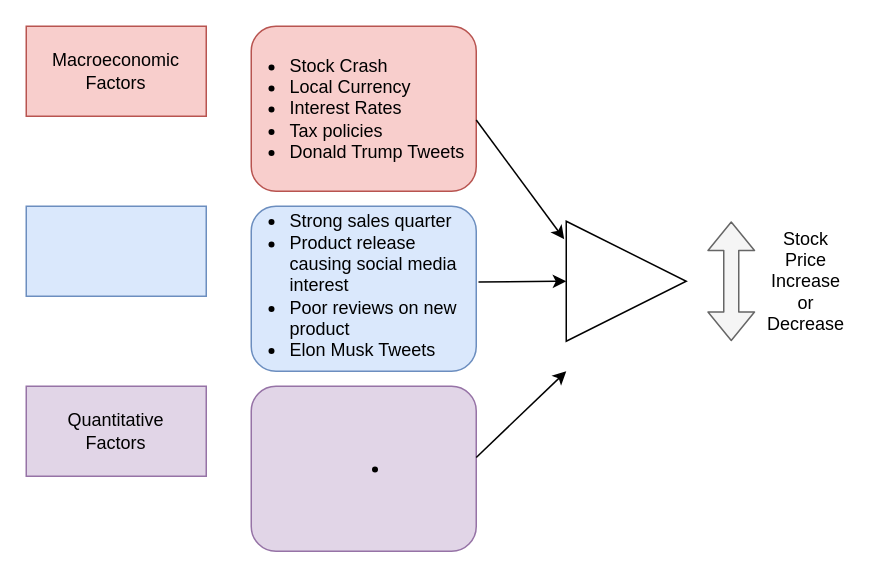
Image size: 870x578. Some labels were removed from this diagram. The centre of each missing label's shape, as x and y in pixels:
Business Factors: pixel 115 250
Demand: pixel 625 280
